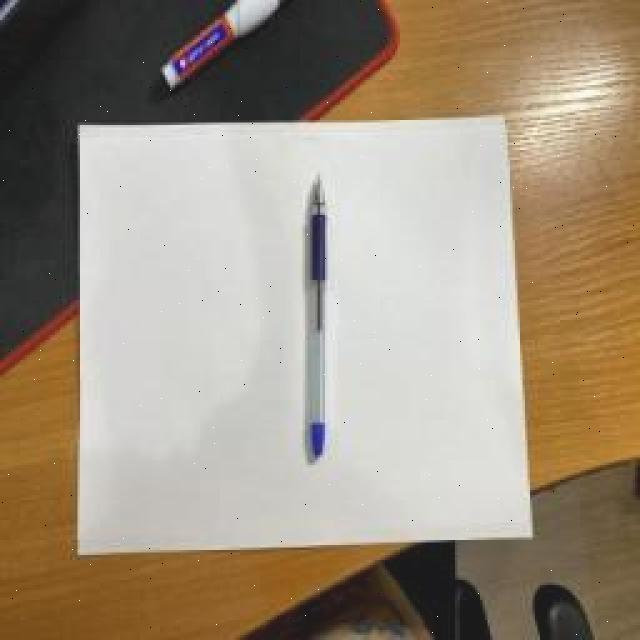pen: (305, 170, 325, 460)
